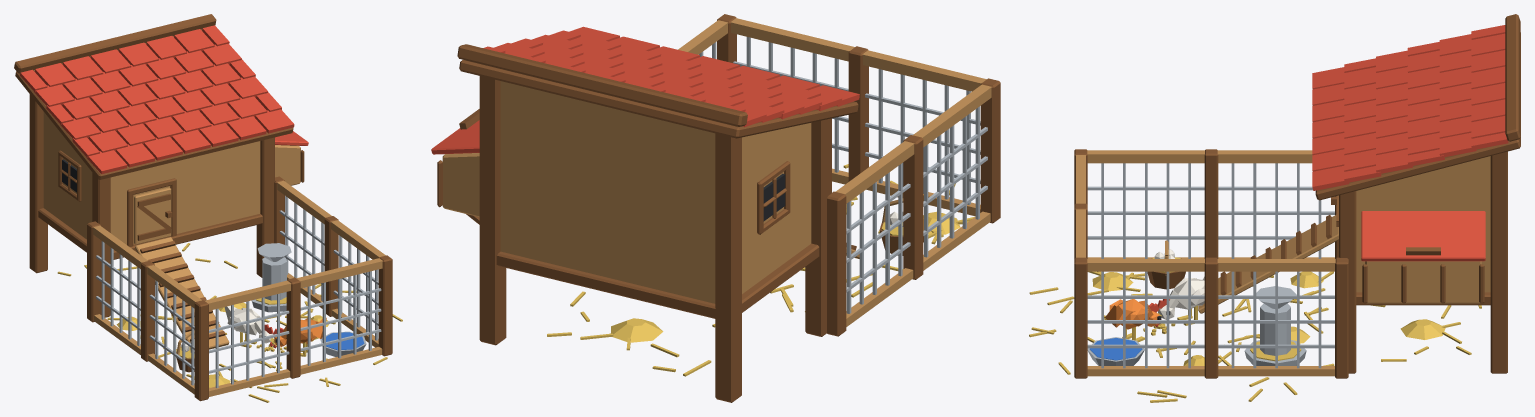
Rendered from low-poly-chicken-coop.glb.
The picture shows the model from 3 angles, left to right: view 1: azimuth 30°, elevation 25°; view 2: azimuth 150°, elevation 25°; view 3: azimuth 270°, elevation 25°; orthographic projection. The views are drawn at different scales.
Visible parts, largest first — view 1: Roof_Shingles, House_Walls, Run_Wire, House_Frame, Run_Posts, Run_Rails, Roof_Board, Ramp, Straw, Feeder, Door, Ramp_Slats (+6 smaller); view 2: House_Walls, House_Frame, Roof_Shingles, Run_Wire, Run_Posts, Run_Rails, Roof_Board, Straw, NestBoxes, NestLid, House_Window; view 3: Roof_Shingles, Run_Wire, Run_Rails, House_Frame, Run_Posts, House_Walls, NestLid, Straw, NestBoxes, Roof_Board, Feeder, Ramp (+6 smaller).
Part boxes in pixels (x1,y1,x2,y2): Roof_Shingles: (20,25,294,174); House_Walls: (43,112,260,244); Run_Wire: (96,196,381,388); House_Frame: (29,94,304,317); Run_Posts: (87,176,392,401); Run_Rails: (93,180,385,396); Roof_Board: (14,14,293,180); Ramp: (135,237,229,349); Straw: (57,243,402,402); Feeder: (251,243,291,312); Door: (134,187,171,244); Ramp_Slats: (140,241,225,341); House_Walls: (500,81,811,303); House_Frame: (437,76,831,402); Roof_Shingles: (483,26,859,127); Run_Wire: (699,37,987,313); Run_Posts: (717,14,1000,336); Run_Rails: (678,18,991,326); Roof_Board: (457,44,858,138); Straw: (547,164,974,376); NestBoxes: (442,153,479,217); NestLid: (431,120,479,154); House_Window: (763,173,785,221); Roof_Shingles: (1312,25,1508,190); Run_Wire: (1087,163,1334,368); Run_Rails: (1076,150,1335,376); House_Frame: (1339,151,1507,373); Run_Posts: (1074,149,1348,378); House_Walls: (1356,156,1490,292); NestLid: (1361,211,1485,261); Straw: (1029,271,1481,402); NestBoxes: (1365,261,1481,303); Roof_Board: (1315,14,1520,200); Feeder: (1244,286,1306,365); Ramp: (1198,215,1338,313).
Size of the model in its own units: 8.5 by 7.14 by 12.64.
